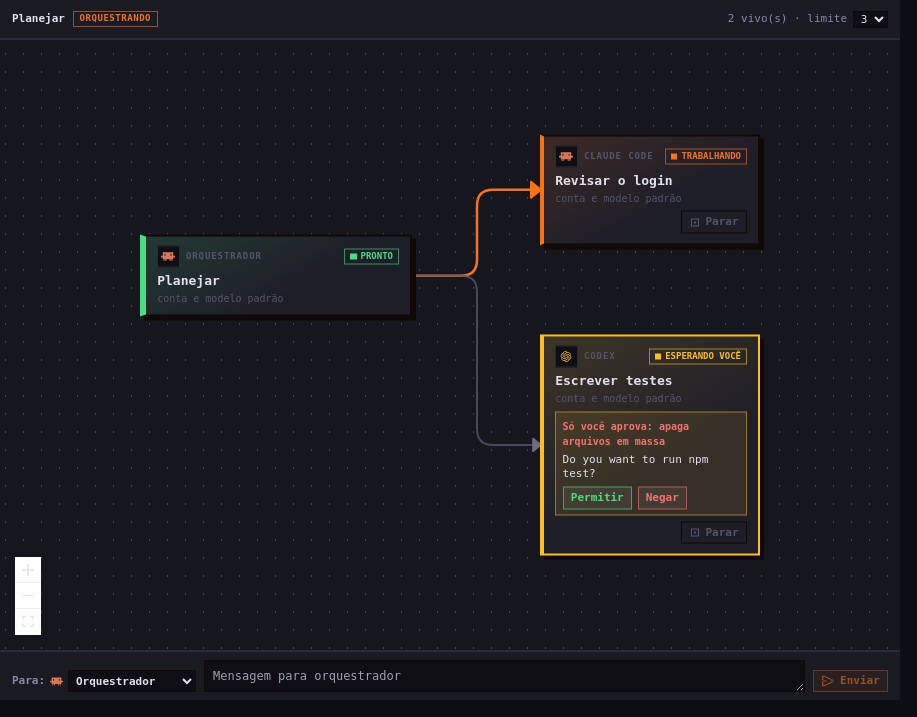
Scenario: interagir pelo fluxo › agente esperando permissão não recebe mensagem: o fluxo explica
Step 1. Select "Escrever testes" in the dropdown named "Para quem" → point(132, 681), box [68,670,196,692]
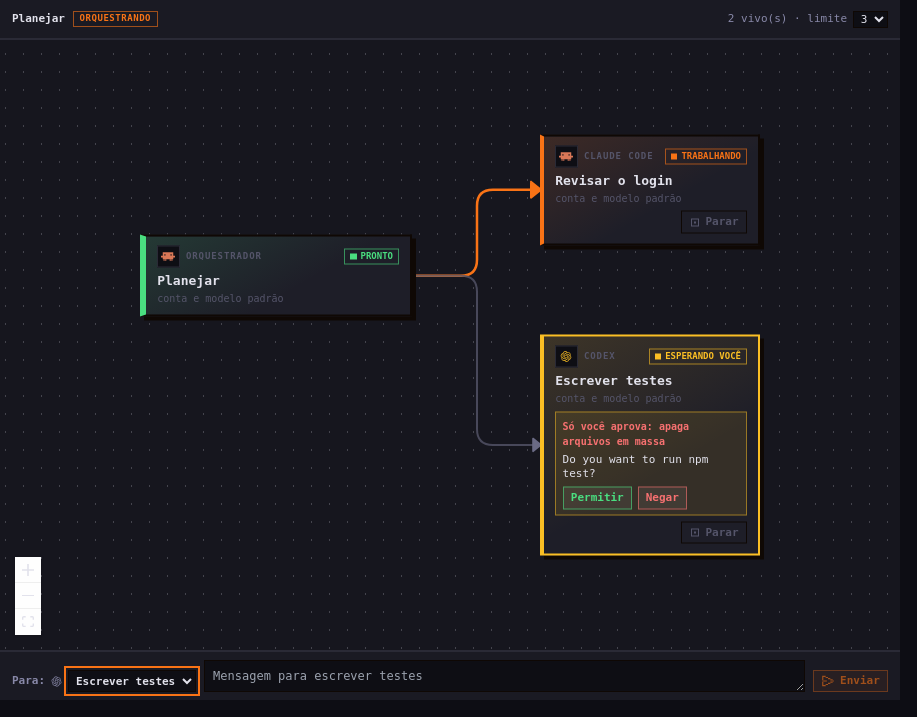
Step 2. Type "oi" into the text box labelled "Mensagem" → point(505, 676), box [204,660,805,692]
Then press Enter
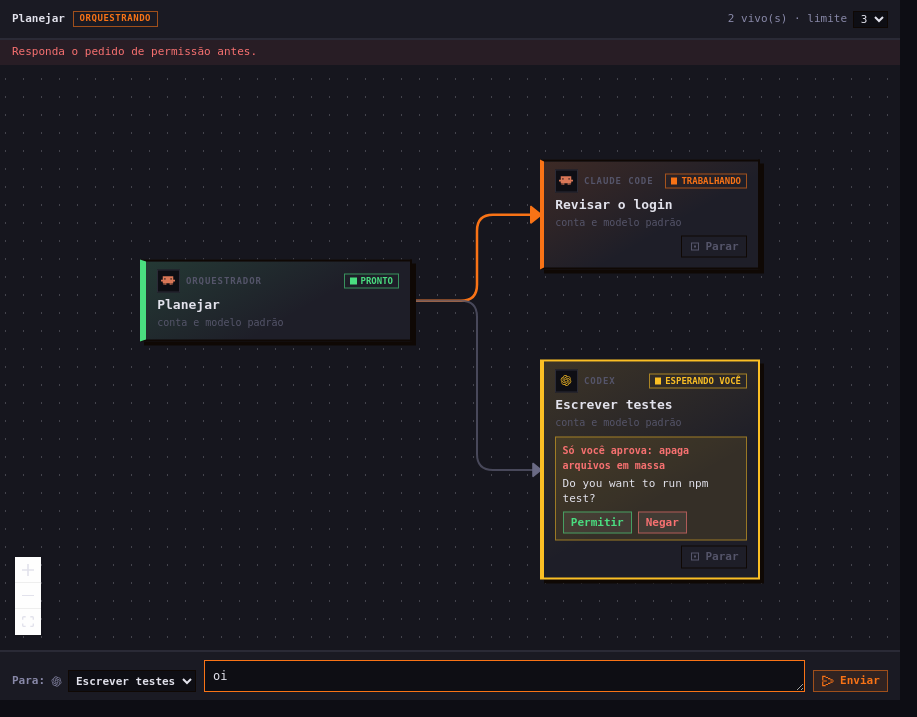
Now the message reads "Responda o pedido de permissão antes.", box [12,45,257,58]
